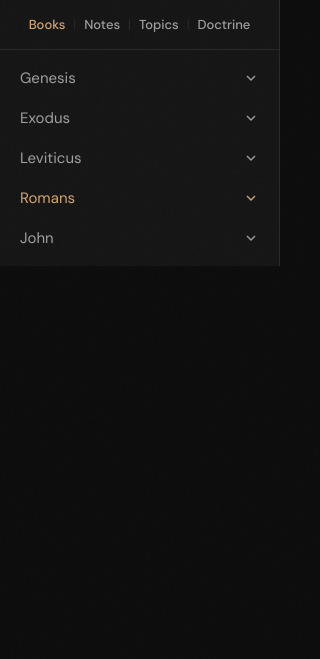
Test: Sidebar › Books tab › expands book to show chapters when clicked
Click the button "Genesis": (48, 78) left=8, top=58, right=271, bottom=98
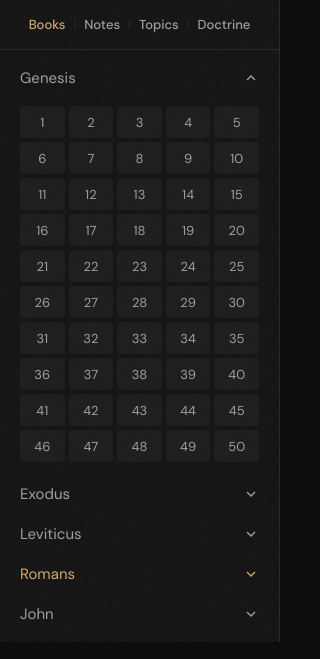
Check: the button "1" is shown, box left=20, top=106, right=65, bottom=138
Check: the button "50" is shown, box left=214, top=430, right=259, bottom=462
